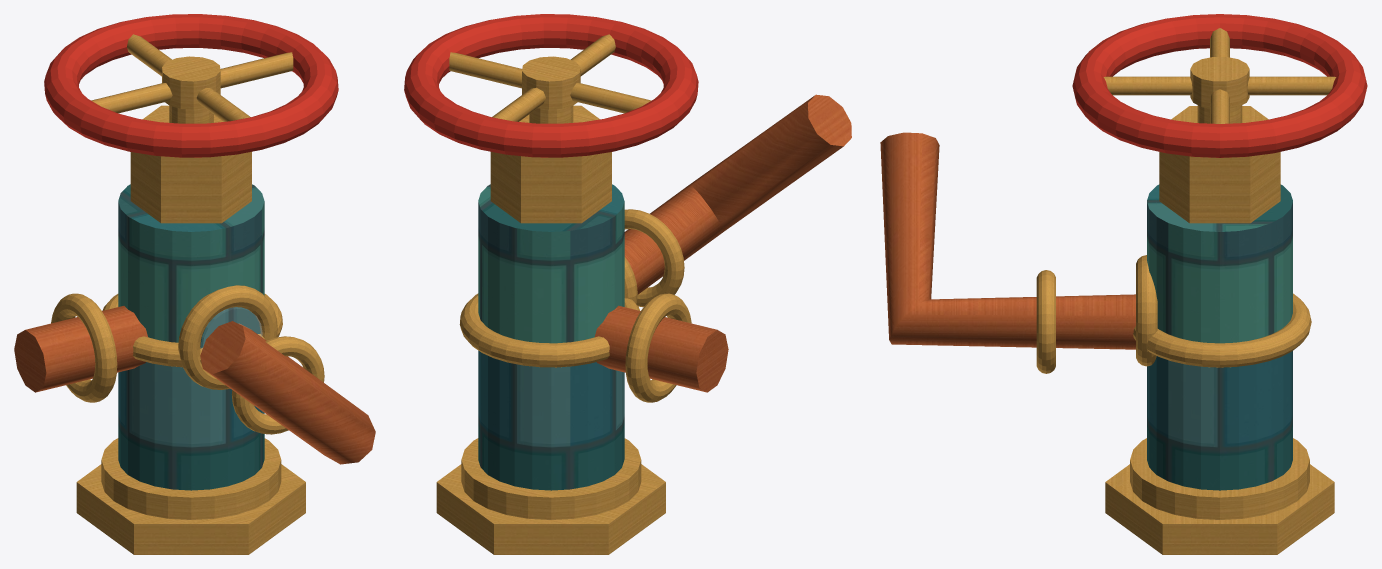
File: act2_water_valve.glb
3 views of the same model, side by side, from view 1: azimuth 30°, elevation 25°; view 2: azimuth 150°, elevation 25°; view 3: azimuth 270°, elevation 25° (orthographic).
Visible parts, largest first — view 1: SM_Valve_Body, ANIM_Valve_Wheel_Mesh; view 2: SM_Valve_Body, ANIM_Valve_Wheel_Mesh; view 3: SM_Valve_Body, ANIM_Valve_Wheel_Mesh.
Boxes of the visible parts, x1,y1,x2,y2 form: SM_Valve_Body: (14, 105, 375, 554); ANIM_Valve_Wheel_Mesh: (44, 14, 338, 157); SM_Valve_Body: (436, 94, 851, 554); ANIM_Valve_Wheel_Mesh: (404, 14, 698, 157); SM_Valve_Body: (880, 105, 1334, 554); ANIM_Valve_Wheel_Mesh: (1072, 14, 1367, 157).
Bounding box in the file's own units: 0.538 × 0.79 × 0.7857.
Materials: 6 (4 with a texture image).
